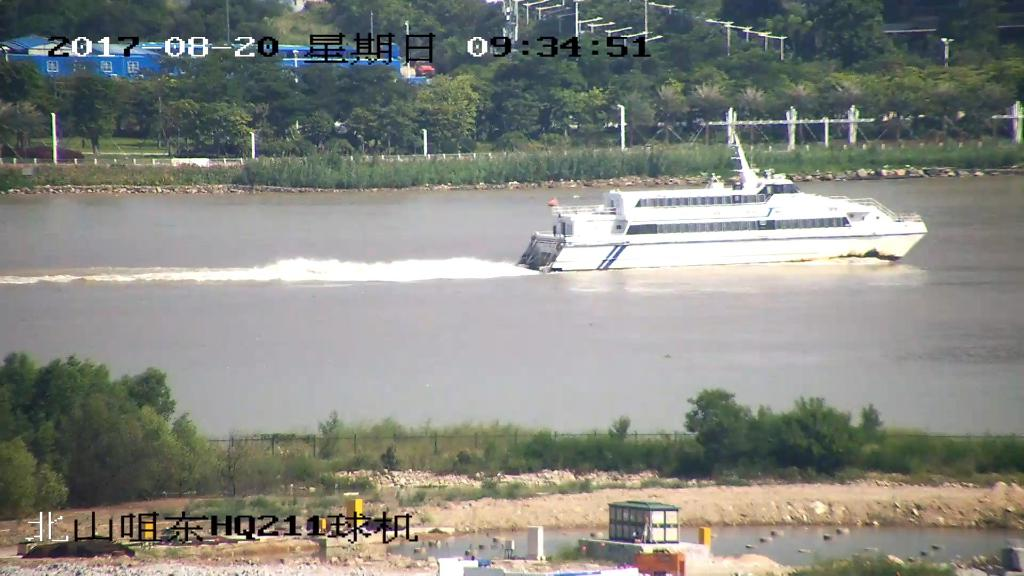PassengerShip: (510, 119, 934, 277)
